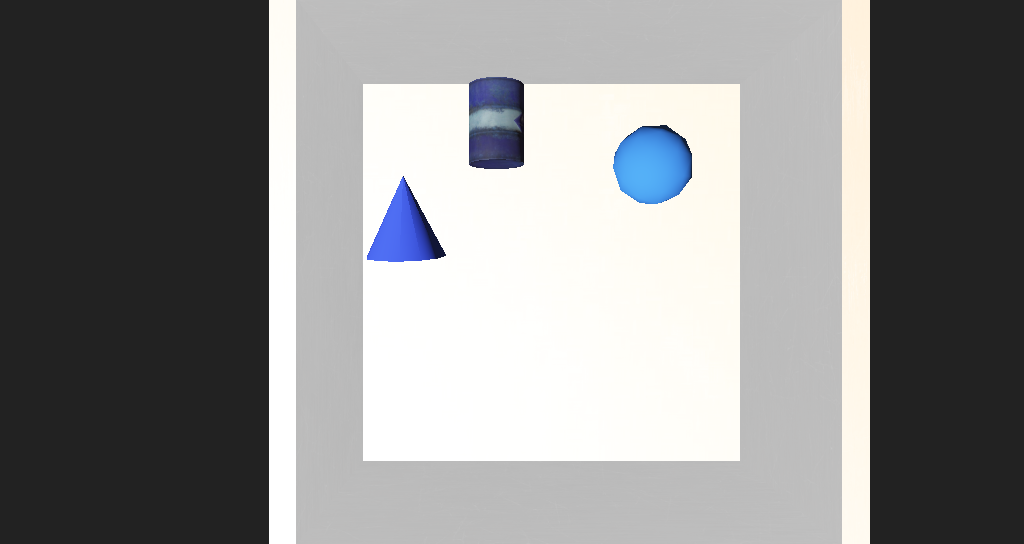cone: (441, 160, 488, 212)
cylinder: (350, 205, 418, 262)
sphere: (556, 188, 616, 231)
